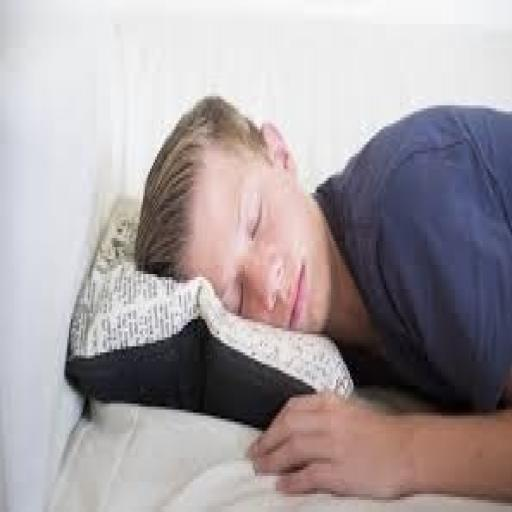sleeping: (133, 90, 510, 506)
